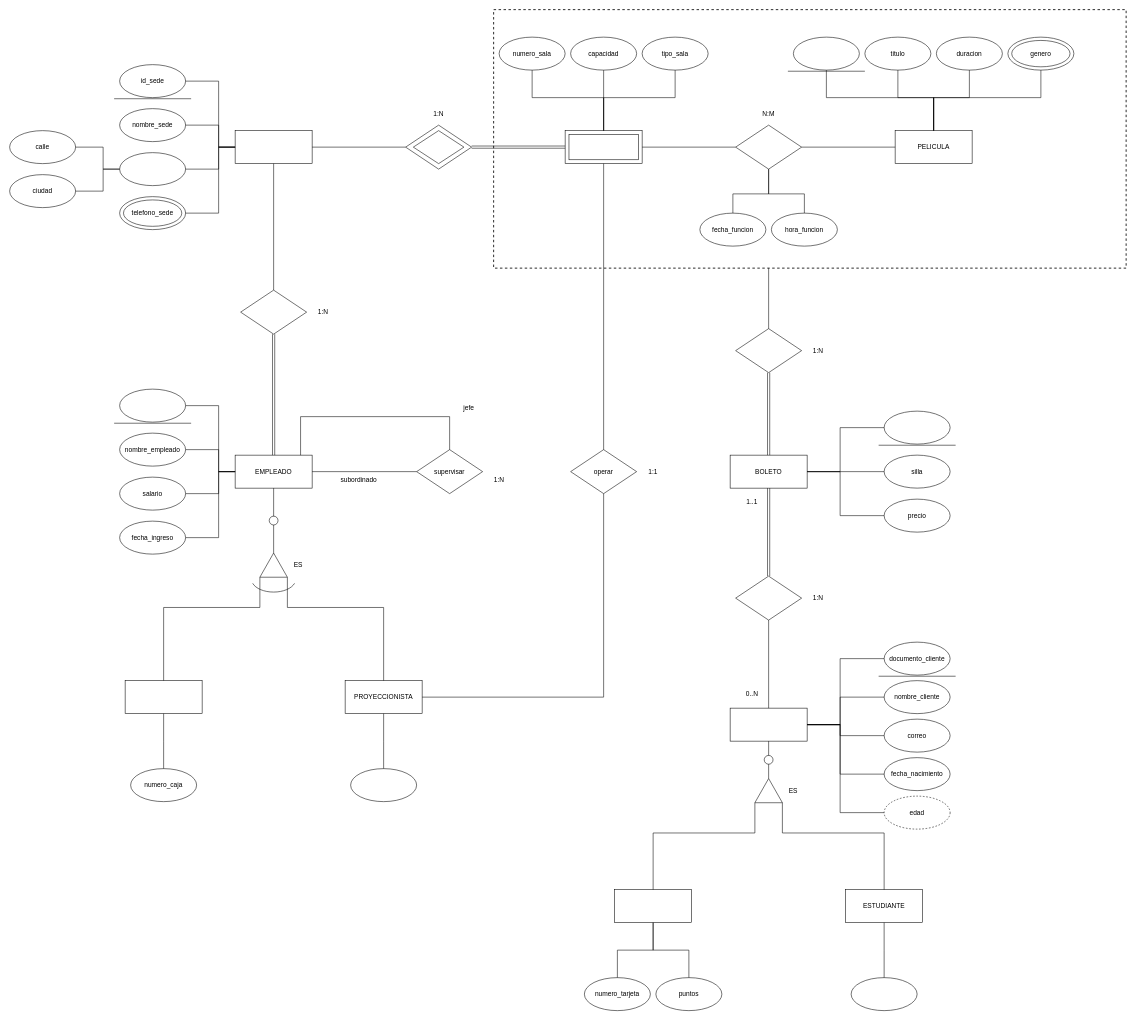
Some shapes in this 1136 by 1021 pixel diagram are drawn without their labels. The shapes that lost their labels are listed below. From the top down, each one's centre as x and y in pixels, then its label:
the point at 826,53: codigo_pelicula
the point at 273,147: SEDE
the point at 438,147: contar
the point at 603,147: SALA
the point at 768,147: proyectar
the point at 152,169: direccion
the point at 273,312: trabajar
the point at 768,350: generar
the point at 152,405: id_empleado
the point at 917,427: codigo_boleto
the point at 768,598: comprar
the point at 163,697: TAQUILLERO
the point at 768,724: CLIENTE
the point at 383,785: certificacion
the point at 653,906: SOCIO
the point at 884,994: institucion
